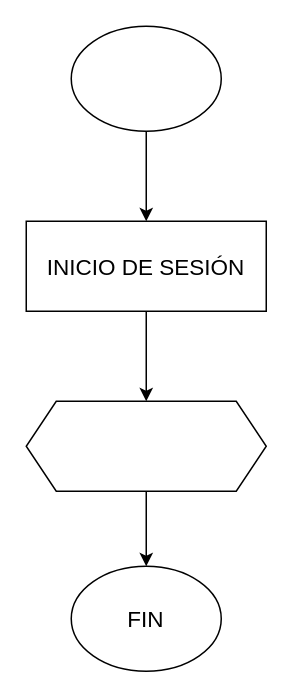
The diagram is 293 pixels wide and 698 high, and some of its shapes have lost their labels. Here are the shapes that lost their labels. From the top down, the centre of each, then its label:
At (x=145, y=78): "INICIO".
At (x=145, y=445): "GESTIONAR ASESORES".
